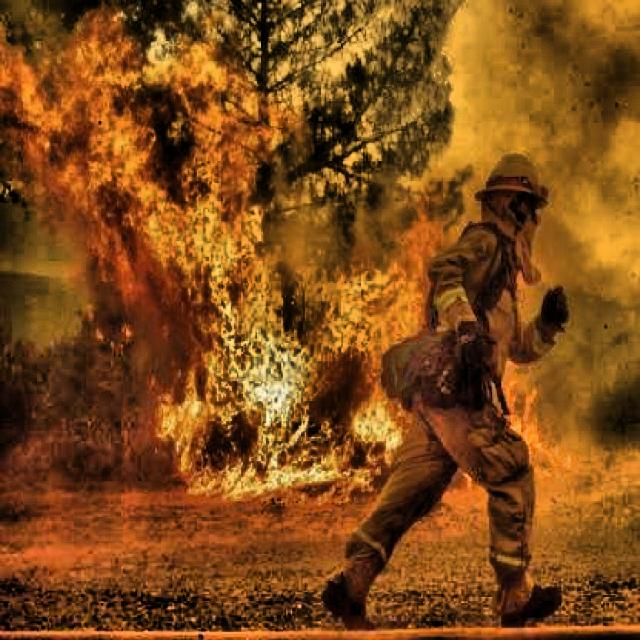Fire: (0, 0, 569, 502)
